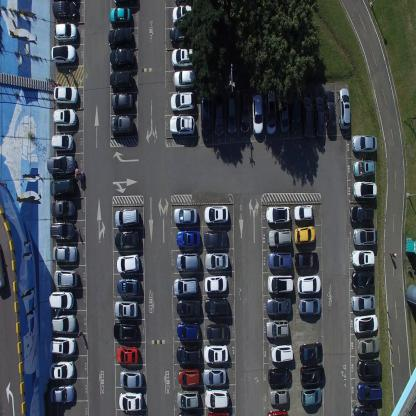car: (336, 86, 350, 131), (108, 25, 134, 48), (168, 23, 195, 45), (49, 176, 76, 198), (351, 132, 378, 154), (299, 341, 323, 365), (169, 112, 195, 134), (172, 68, 198, 90), (352, 312, 378, 334), (46, 155, 76, 174), (51, 0, 78, 21), (49, 335, 76, 356), (48, 360, 76, 380), (266, 274, 294, 294), (268, 225, 292, 248), (324, 89, 336, 135), (115, 206, 140, 228), (48, 289, 73, 311), (356, 380, 382, 401), (356, 358, 382, 379), (49, 198, 76, 218), (50, 314, 77, 334), (116, 252, 140, 274), (200, 94, 211, 142), (110, 114, 134, 136), (176, 344, 200, 366), (313, 94, 325, 138), (51, 43, 76, 64), (50, 220, 75, 241), (113, 320, 138, 341), (300, 365, 325, 386), (170, 47, 196, 67), (49, 383, 75, 403), (51, 244, 78, 263), (116, 344, 139, 366), (110, 91, 134, 112), (176, 320, 200, 341), (204, 387, 228, 408), (115, 230, 140, 250), (173, 206, 198, 226), (171, 4, 196, 24), (53, 22, 78, 42), (53, 269, 78, 289), (118, 392, 143, 412), (296, 274, 321, 294), (264, 319, 289, 339), (349, 203, 374, 223), (203, 204, 229, 223), (109, 49, 135, 68), (266, 297, 292, 316), (203, 298, 230, 316), (213, 94, 224, 138), (239, 89, 250, 133), (252, 91, 263, 135), (302, 96, 313, 140), (278, 89, 289, 133), (351, 269, 374, 290), (170, 90, 194, 110), (114, 298, 138, 318), (119, 368, 143, 388), (176, 251, 200, 271), (294, 250, 318, 270), (268, 366, 292, 386), (352, 179, 376, 199), (289, 92, 301, 132), (266, 204, 291, 223), (109, 70, 134, 89), (201, 367, 226, 386), (350, 249, 375, 268), (266, 88, 276, 135), (172, 278, 198, 296), (352, 157, 374, 178), (204, 273, 227, 293), (176, 229, 200, 248), (204, 229, 228, 248), (52, 107, 76, 126), (176, 299, 200, 318), (268, 251, 292, 270), (356, 336, 380, 355), (353, 227, 377, 246), (53, 86, 78, 104), (204, 344, 229, 362), (204, 252, 229, 270), (351, 294, 376, 312), (294, 224, 316, 244), (300, 386, 322, 406), (109, 6, 132, 25), (176, 389, 199, 408), (298, 296, 321, 315), (270, 344, 293, 363), (206, 323, 230, 341), (226, 96, 237, 134), (51, 132, 73, 151), (178, 368, 200, 387), (117, 277, 140, 295), (270, 386, 290, 406), (294, 202, 314, 219), (353, 404, 378, 415), (266, 408, 289, 415), (112, 0, 138, 6), (178, 409, 200, 415), (206, 410, 231, 415), (174, 0, 192, 5)
